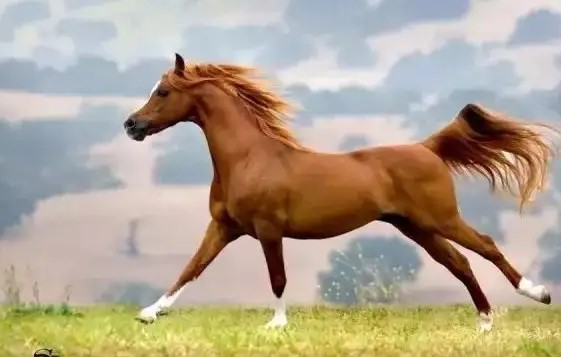horse: (123, 52, 561, 329)
